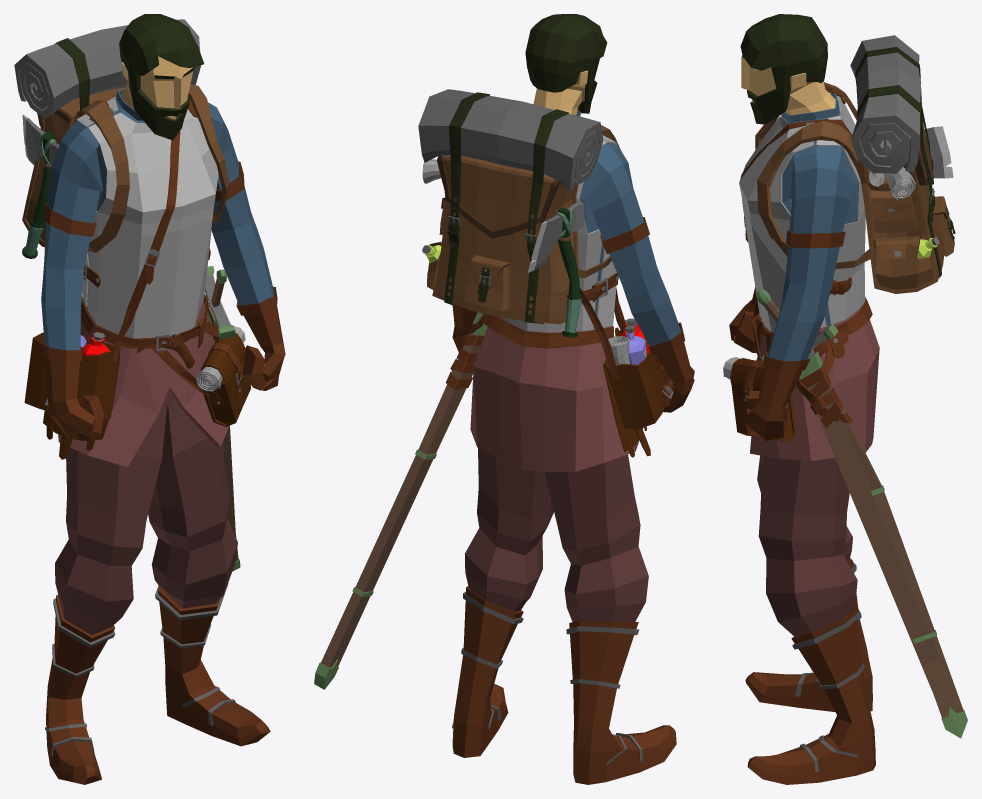
File: Man.obj
3 renders of one model, left to right at view 1: azimuth 30°, elevation 25°; view 2: azimuth 150°, elevation 25°; view 3: azimuth 270°, elevation 25°, orthographic.
Visible parts, largest first — view 1: MainMesh, Backpack.001, Shoulder_bag, Hair/Beard, Belt_bag, Belt, Sword, Sword-Sheet; view 2: MainMesh, Backpack.001, Sword-Sheet, Shoulder_bag, Hair/Beard, Belt; view 3: MainMesh, Backpack.001, Sword-Sheet, Hair/Beard, Belt, Belt_bag, Sword, Shoulder_bag.
Boxes of the visible parts, bbox=[...] form: MainMesh: bbox=[41, 56, 285, 784]; Backpack.001: bbox=[14, 19, 229, 258]; Shoulder_bag: bbox=[24, 131, 180, 459]; Hair/Beard: bbox=[119, 14, 204, 140]; Belt_bag: bbox=[137, 303, 251, 426]; Belt: bbox=[81, 294, 218, 368]; Sword: bbox=[205, 266, 235, 339]; Sword-Sheet: bbox=[207, 302, 240, 571]; MainMesh: bbox=[452, 70, 694, 784]; Backpack.001: bbox=[418, 89, 621, 337]; Sword-Sheet: bbox=[314, 312, 487, 689]; Shoulder_bag: bbox=[579, 287, 673, 457]; Hair/Beard: bbox=[525, 14, 607, 113]; Belt: bbox=[446, 313, 614, 389]; MainMesh: bbox=[729, 55, 879, 784]; Backpack.001: bbox=[755, 35, 955, 293]; Sword-Sheet: bbox=[799, 351, 967, 738]; Hair/Beard: bbox=[740, 14, 827, 124]; Belt: bbox=[752, 297, 872, 428]; Belt_bag: bbox=[723, 331, 848, 441]; Sword: bbox=[755, 289, 838, 361]; Shoulder_bag: bbox=[740, 119, 852, 351].
Size of the model in its own units: 0.7102 by 1.76 by 0.5415.
